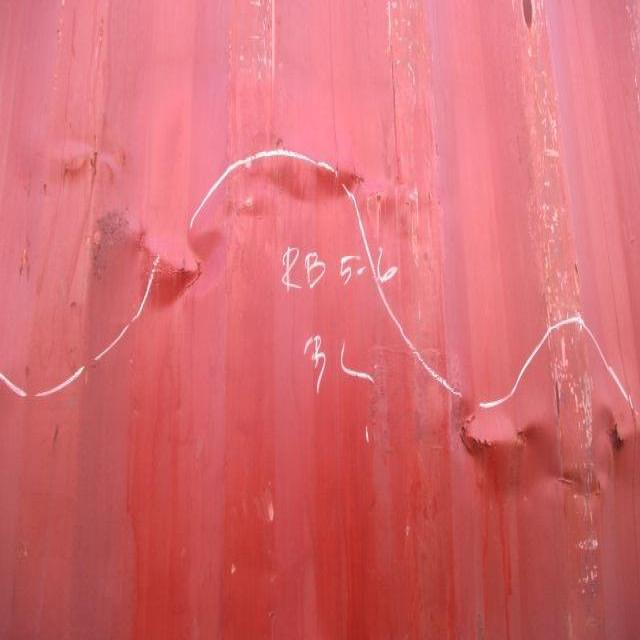Dent: (10, 135, 638, 536)
